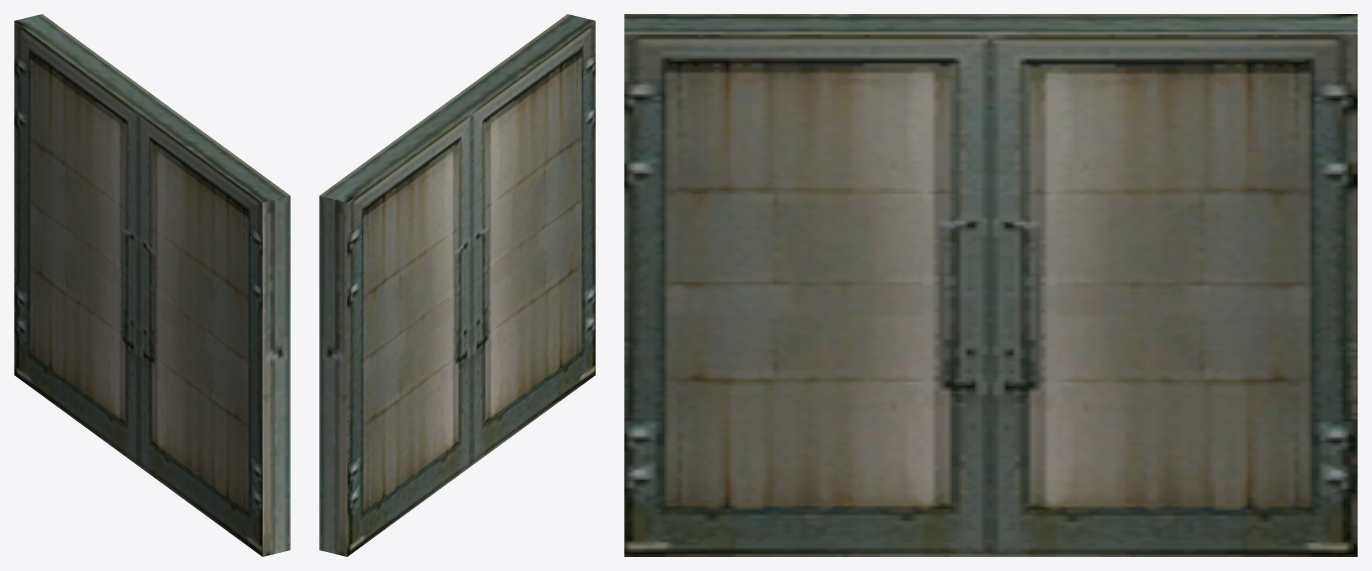
Rendered from METALDOORC_2.glb.
The picture shows the model from 3 angles, left to right: view 1: azimuth 30°, elevation 25°; view 2: azimuth 150°, elevation 25°; view 3: azimuth 270°, elevation 25°; orthographic projection. The views are drawn at different scales.
Visible parts, largest first — view 1: METALDOORC_2; view 2: METALDOORC_2; view 3: METALDOORC_2.
Part boxes in pixels (<box>): METALDOORC_2: <box>14,14,290,556</box>; METALDOORC_2: <box>319,14,595,556</box>; METALDOORC_2: <box>624,14,1357,556</box>.
Bounding box in the file's own units: 0.25 × 3 × 3.81.
Materials: 1 (1 with a texture image).
